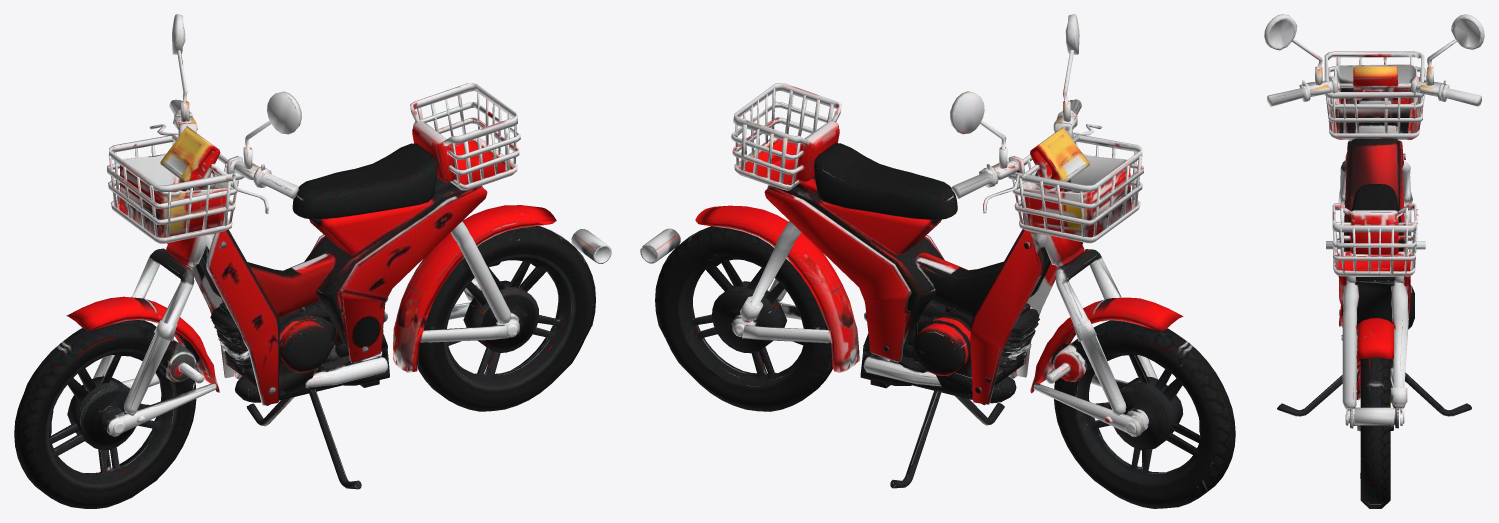
The model's file is xemay.glb.
3 renders of one model, left to right at view 1: azimuth 30°, elevation 25°; view 2: azimuth 150°, elevation 25°; view 3: azimuth 270°, elevation 25°, orthographic. The views are drawn at different scales.
Size of the model in its own units: 0.9546 by 0.6577 by 0.355.
Materials: 1 (1 with a texture image).
